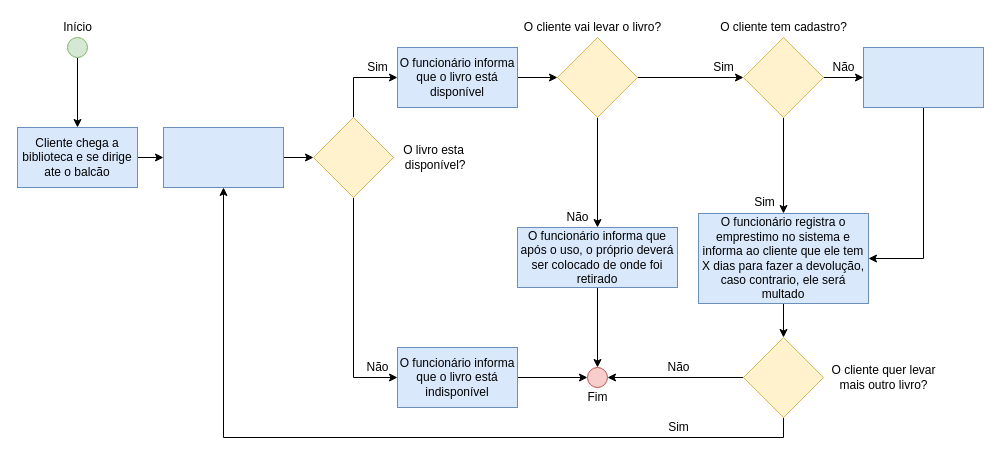
Image size: 1001x463. Some labels were removed from this diagram. Each missing label, with the centre of its shape:
"O cliente informa o nome ou o assunto do livro" belongs at pixel 223 157.
"O funcionário faz o cadastro do cliente" belongs at pixel 923 77.
